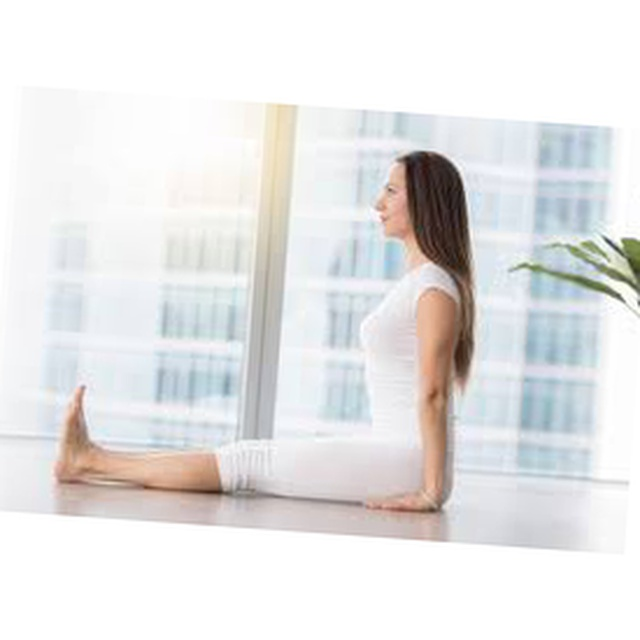Staff_Pose: (54, 149, 477, 515)
